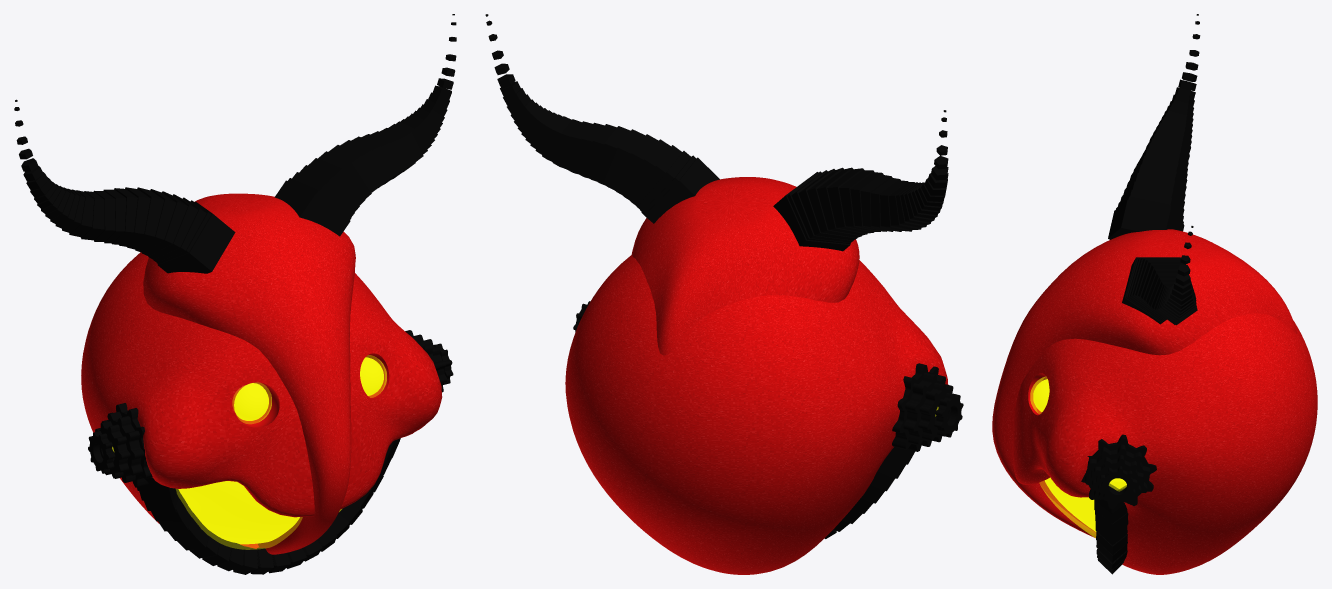
The model's file is folkDevil_07.fbx.
3 renders of one model, left to right at view 1: azimuth 30°, elevation 25°; view 2: azimuth 150°, elevation 25°; view 3: azimuth 270°, elevation 25°, orthographic. The views are drawn at different scales.
Parts seen in each view (by area): view 1: Boole, Sphere_3, MouthOpening_2, MouthOpening, Cylinder_9_0, Cylinder_9_0_2, Sphere_1_2, Extrude_2_1_4, Sphere_1, Extrude_1_2_4, Sphere_2, Extrude_3_4 (+18 smaller); view 2: Boole, Sphere_3, Cylinder_9_0_2, Extrude_2_1_4, Extrude_3_0_4, Extrude_1_2_4, Cylinder_9_0, Extrude_3_4, Cylinder_3_6_2, Cylinder_5_4_2, Cylinder_4_5_2, Cylinder_6_3_2 (+12 smaller); view 3: Boole, Sphere_3, Cylinder_9_0, MouthOpening_2, Extrude_2_1, MouthOpening, Extrude_3_0, Extrude_1_2, Extrude_3, Cylinder_6_3, Cylinder_5_4, Sphere_2 (+3 smaller).
Part boxes in pixels (box(x1,y1,x2,y2)): Boole: box(81, 252, 442, 548); Sphere_3: box(143, 193, 355, 554); MouthOpening_2: box(176, 481, 341, 549); MouthOpening: box(178, 481, 299, 544); Cylinder_9_0: box(157, 201, 235, 273); Cylinder_9_0_2: box(274, 180, 350, 236); Sphere_1_2: box(232, 382, 271, 423); Extrude_2_1_4: box(101, 411, 144, 482); Sphere_1: box(234, 383, 268, 420); Extrude_1_2_4: box(95, 421, 130, 478); Sphere_2: box(360, 355, 386, 397); Extrude_3_4: box(88, 431, 115, 473); Boole: box(565, 255, 948, 574); Sphere_3: box(631, 177, 859, 355); Cylinder_9_0_2: box(641, 157, 719, 223); Extrude_2_1_4: box(903, 372, 945, 446); Extrude_3_0_4: box(892, 363, 938, 451); Extrude_1_2_4: box(918, 382, 953, 442); Cylinder_9_0: box(773, 172, 850, 251); Extrude_3_4: box(934, 392, 963, 437); Cylinder_3_6_2: box(602, 129, 645, 189); Cylinder_5_4_2: box(622, 139, 670, 200); Cylinder_4_5_2: box(613, 134, 658, 194); Cylinder_6_3_2: box(630, 145, 682, 206); Boole: box(1012, 313, 1317, 574); Sphere_3: box(992, 229, 1296, 537); Cylinder_9_0: box(1108, 200, 1184, 239); MouthOpening_2: box(1039, 477, 1096, 537); Extrude_2_1: box(1085, 444, 1150, 507); MouthOpening: box(1045, 478, 1096, 531); Extrude_3_0: box(1081, 434, 1156, 508); Extrude_1_2: box(1092, 455, 1143, 505); Extrude_3: box(1098, 466, 1137, 504); Cylinder_6_3: box(1120, 181, 1184, 214); Cylinder_5_4: box(1123, 173, 1184, 207); Sphere_2: box(1030, 376, 1049, 413).
Size of what is drawn, in the model's own units: 308 by 334 by 215.
4 materials, 1 textured.
